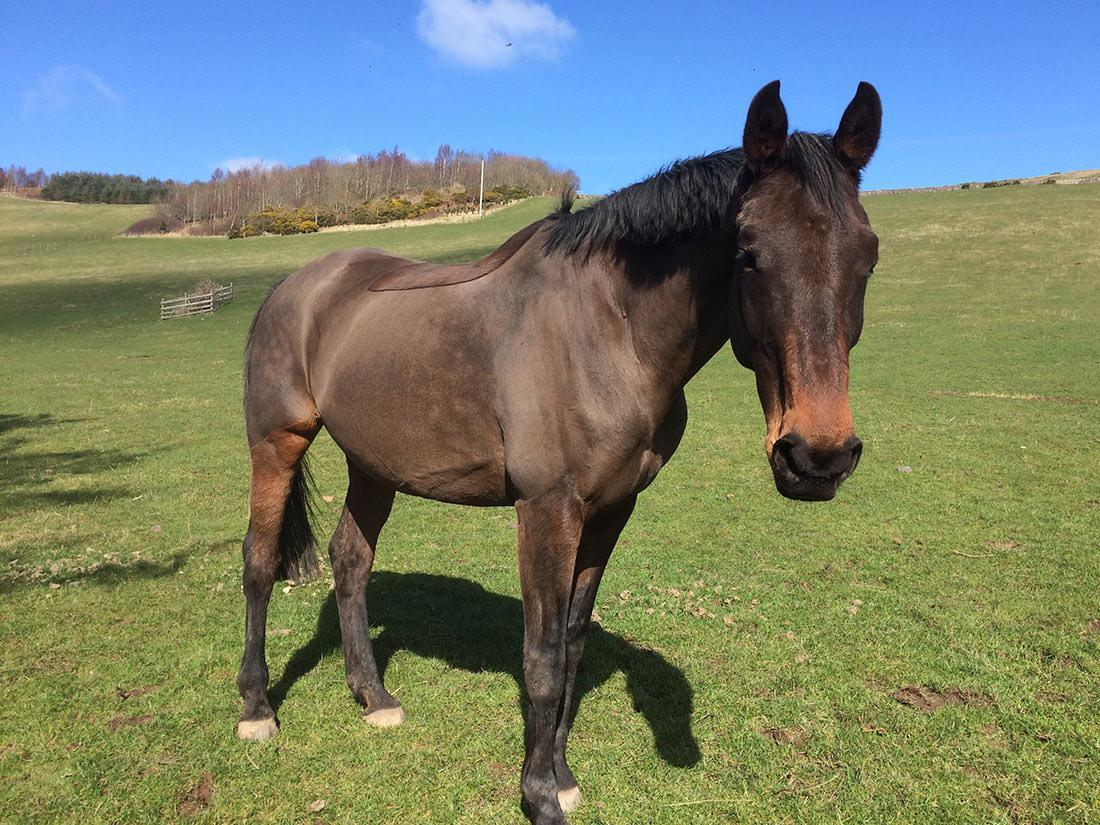horse: (217, 67, 899, 825)
